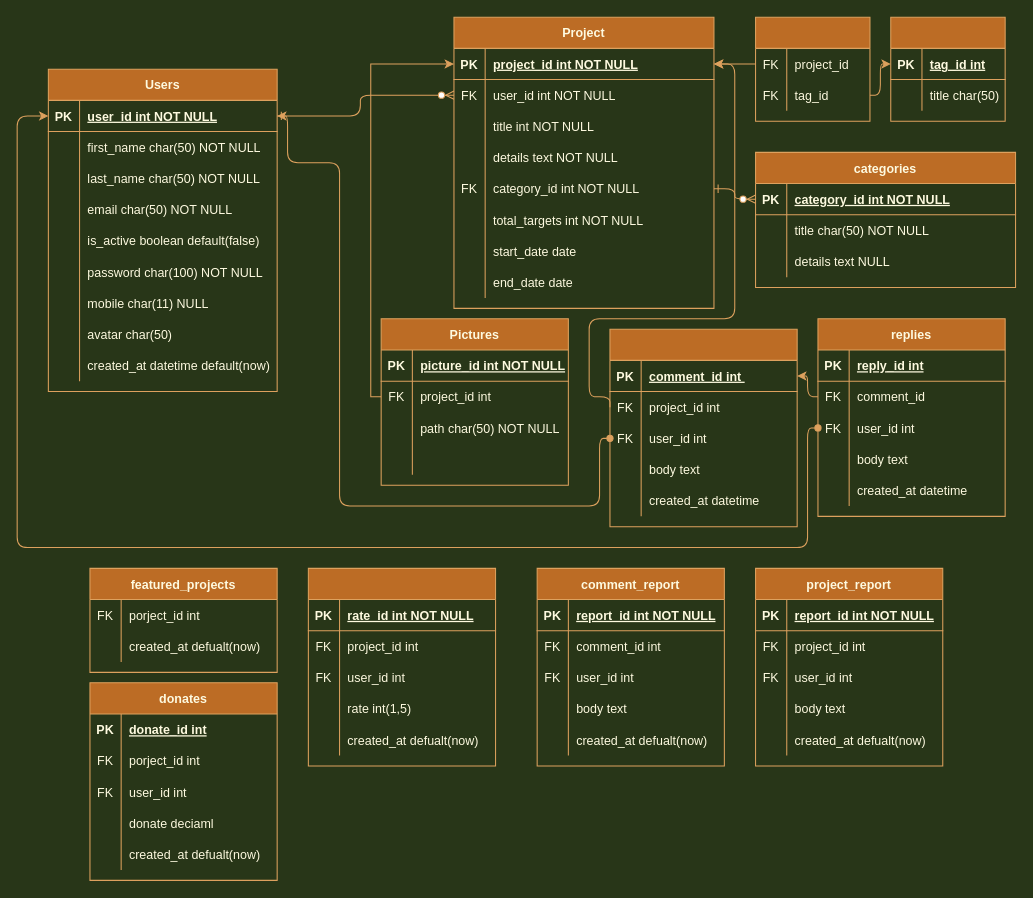
The diagram is 1033 pixels wide and 898 high, and some of its shapes have lost their labels. The box of each missing label's shape, as (x1, y1, x2, y2) in pixels:
comments: (609, 328, 797, 527)
poject_rate: (307, 567, 496, 766)
project tags: (755, 16, 870, 121)
tags: (890, 16, 1005, 121)
